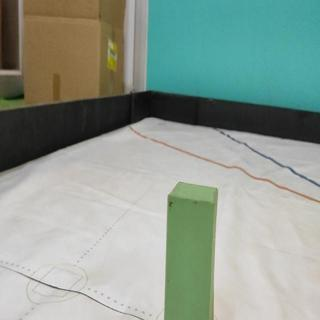greenbox: (165, 181, 220, 320)
